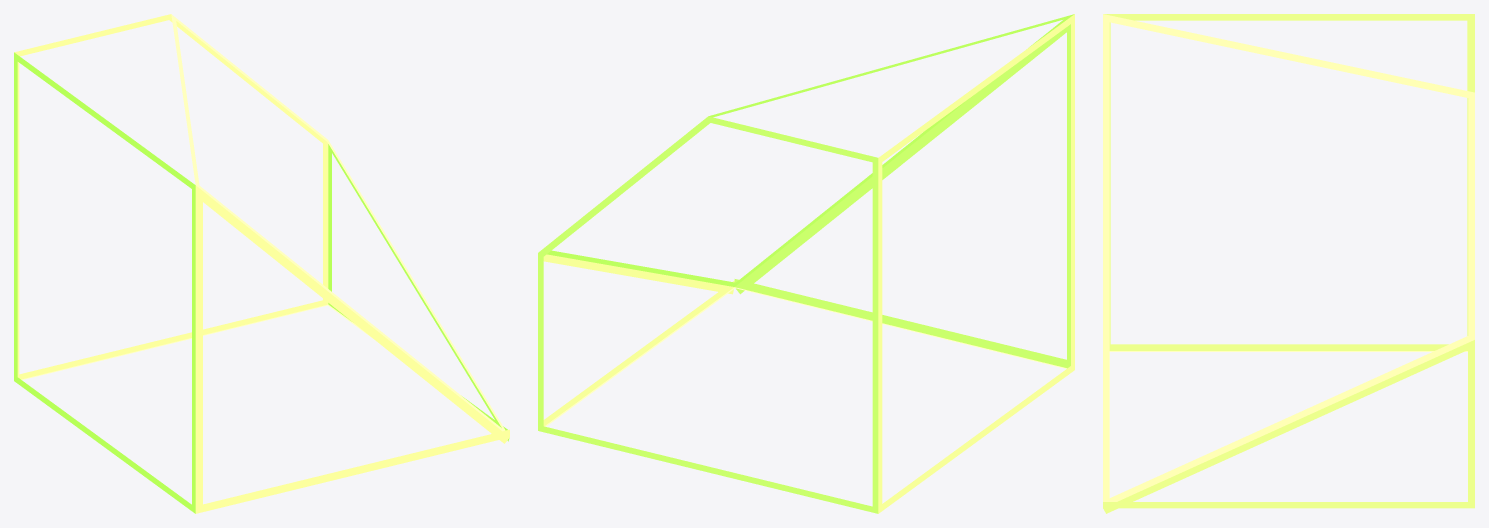
File: r5c3_highlight_green.glb
3 renders of one model, left to right at view 1: azimuth 30°, elevation 25°; view 2: azimuth 150°, elevation 25°; view 3: azimuth 270°, elevation 25°, orthographic. The views are drawn at different scales.
Visible parts, largest first — view 1: r5c3_collider; view 2: r5c3_collider; view 3: r5c3_collider.
Boxes of the visible parts, bbox=[...] form: r5c3_collider: bbox=[14, 14, 509, 513]; r5c3_collider: bbox=[538, 14, 1074, 513]; r5c3_collider: bbox=[1103, 14, 1474, 513].
Bounding box in the file's own units: 2 × 2.03 × 2.
